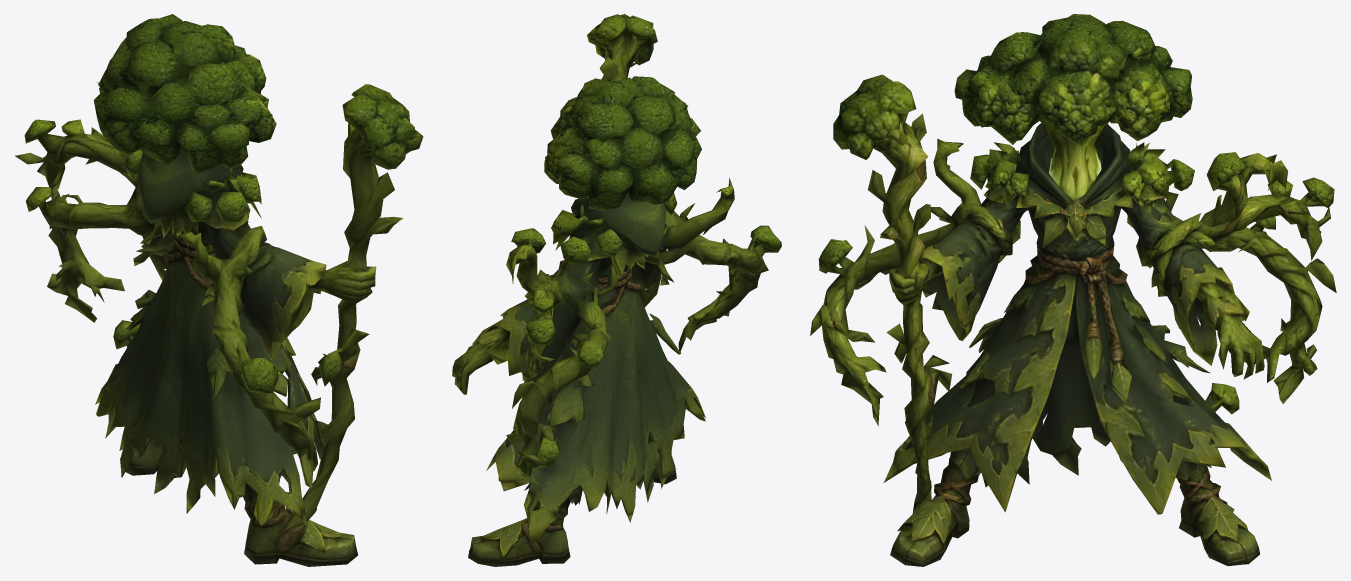
Rendered from stage2.glb.
3 views of the same model, side by side, from view 1: azimuth 30°, elevation 25°; view 2: azimuth 150°, elevation 25°; view 3: azimuth 270°, elevation 25° (orthographic). The views are drawn at different scales.
Visible parts, largest first — view 1: tripo_node_357fc064-b2f6-4e71-880f-9a43ad387055; view 2: tripo_node_357fc064-b2f6-4e71-880f-9a43ad387055; view 3: tripo_node_357fc064-b2f6-4e71-880f-9a43ad387055.
Part boxes in pixels (x1,y1,x2,y2): tripo_node_357fc064-b2f6-4e71-880f-9a43ad387055: (15, 14, 423, 566); tripo_node_357fc064-b2f6-4e71-880f-9a43ad387055: (452, 14, 781, 566); tripo_node_357fc064-b2f6-4e71-880f-9a43ad387055: (810, 14, 1336, 566).
Size of the model in its own units: 0.449 by 1 by 0.9505.
1 material, 1 textured.
